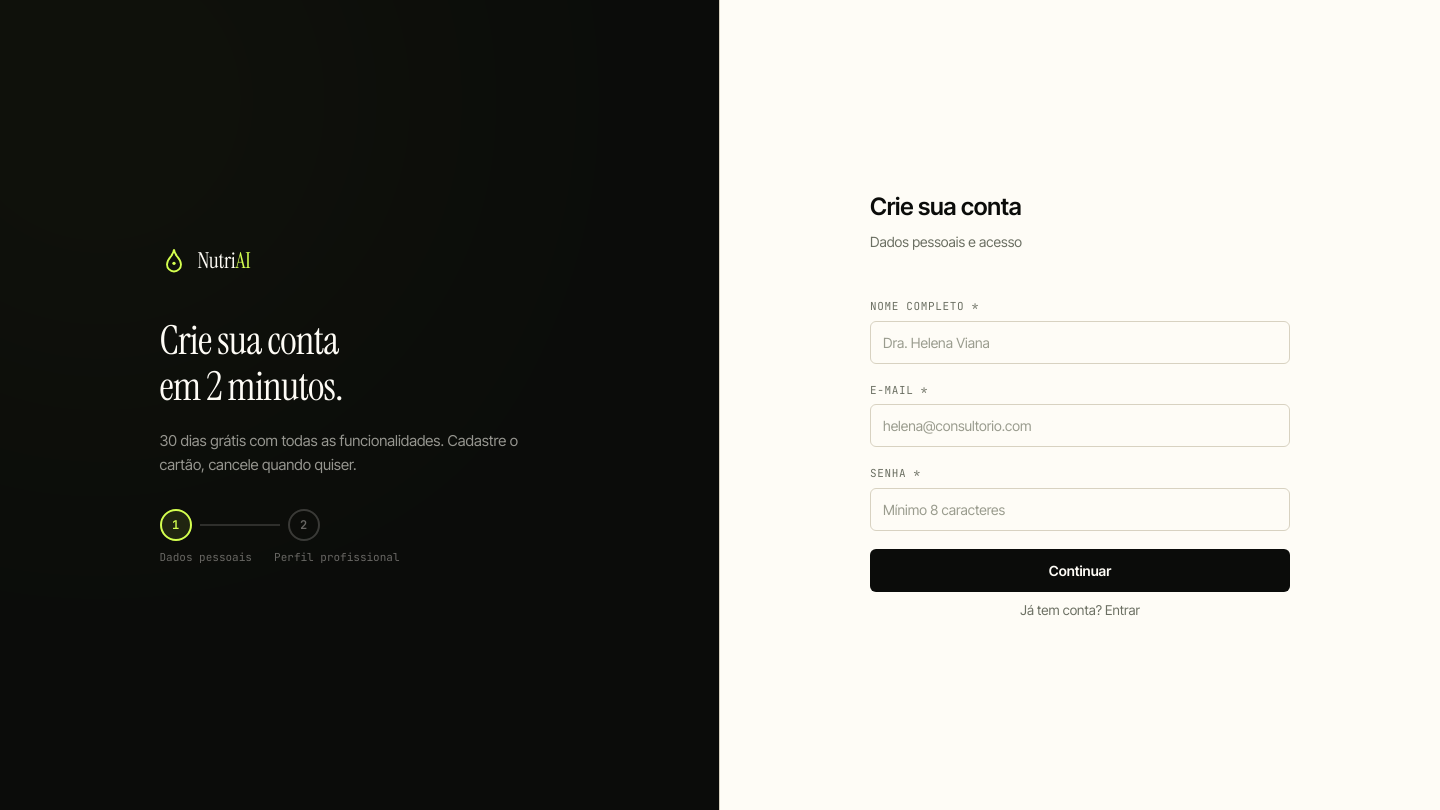
SignupView › Step 2 validation › shows error when step 2 submitted without CRN and terms
Type "Dra. Helena" into the field with test id "signup-name" at (1080, 342), box [870,321,1290,364]
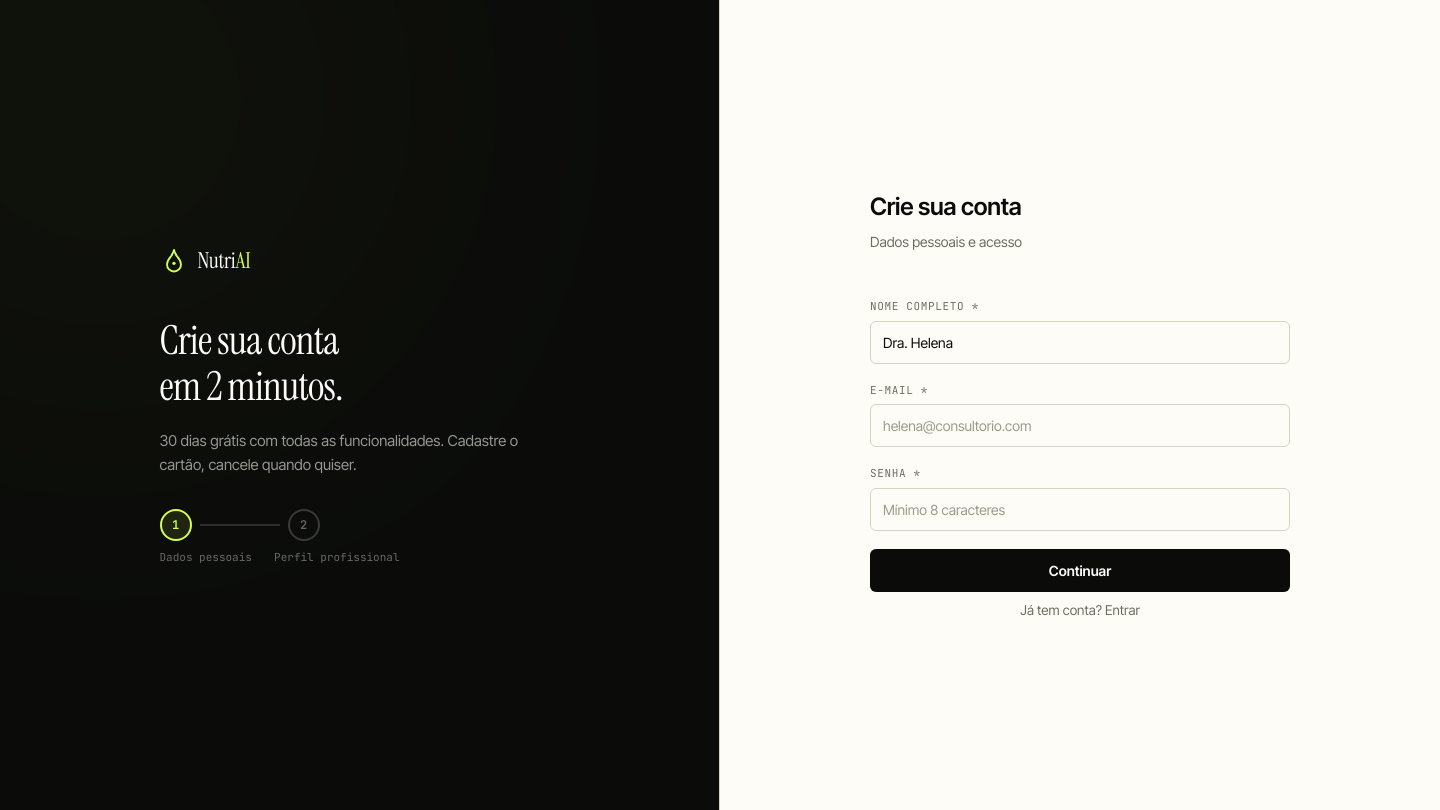
Type "helena@test.com" into the field with test id "signup-email" at (1080, 426), box [870,404,1290,447]
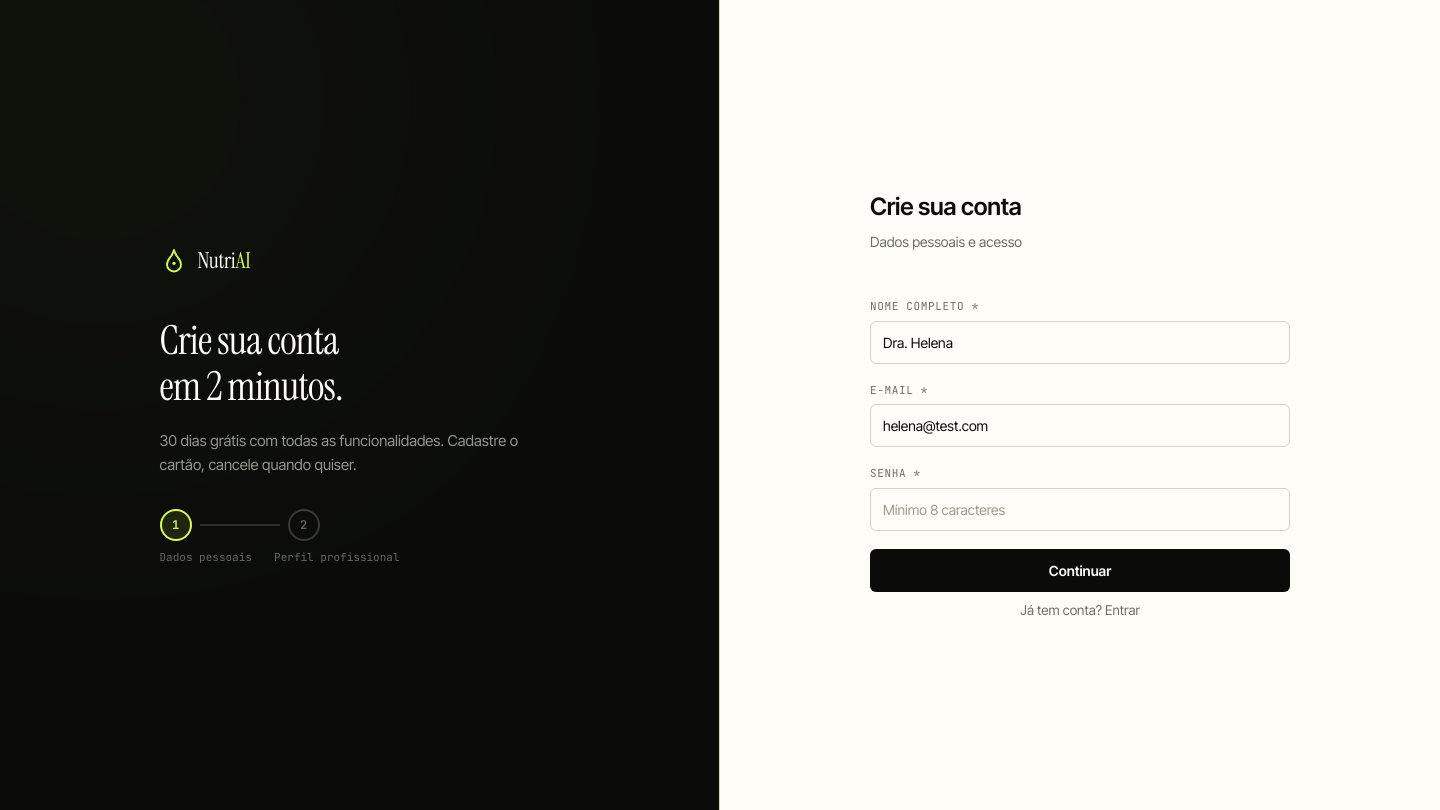
Type "Senha123!" into the password field with test id "signup-password" at (1080, 509), box [870,488,1290,531]
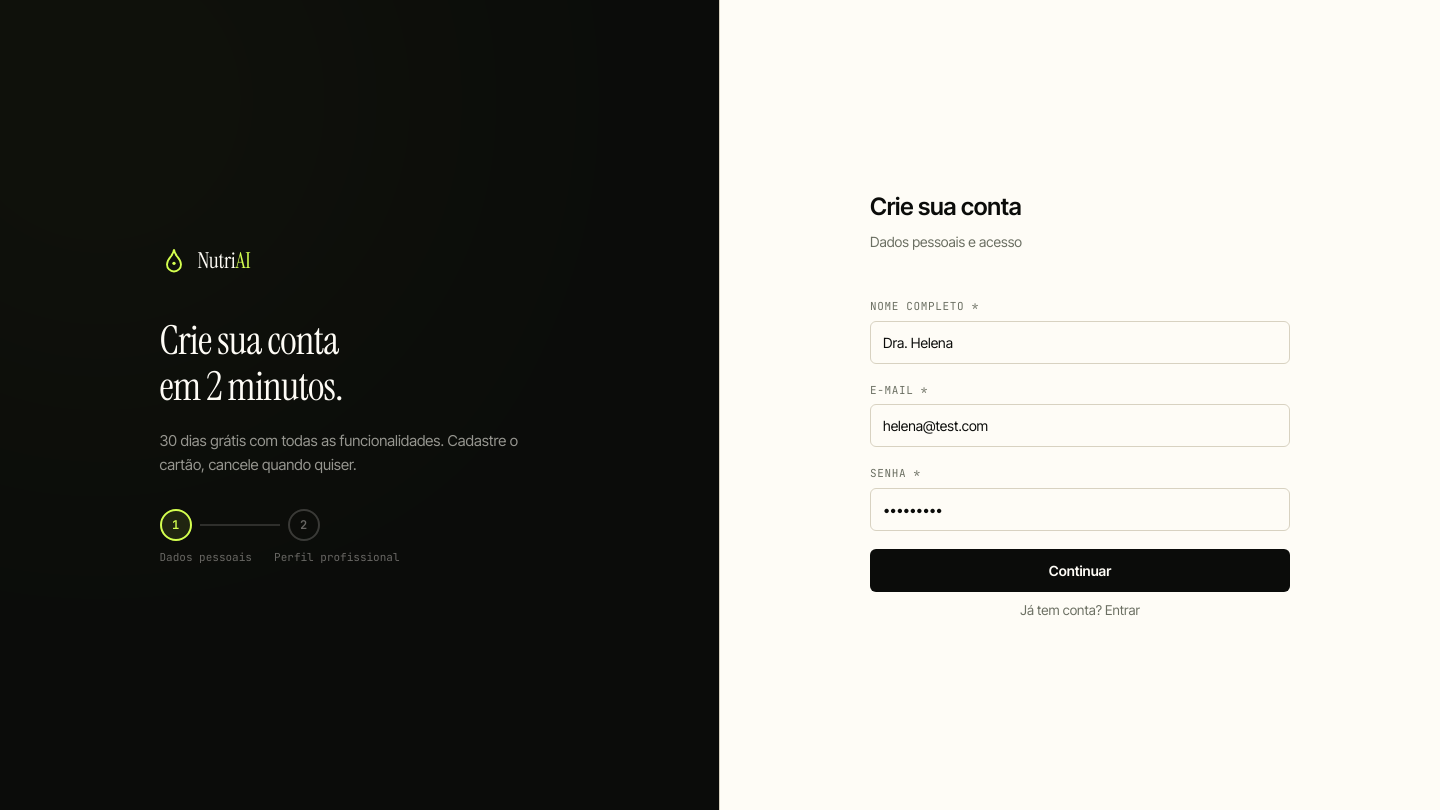
Submit the form named "continuar", box [870,189,1290,592]
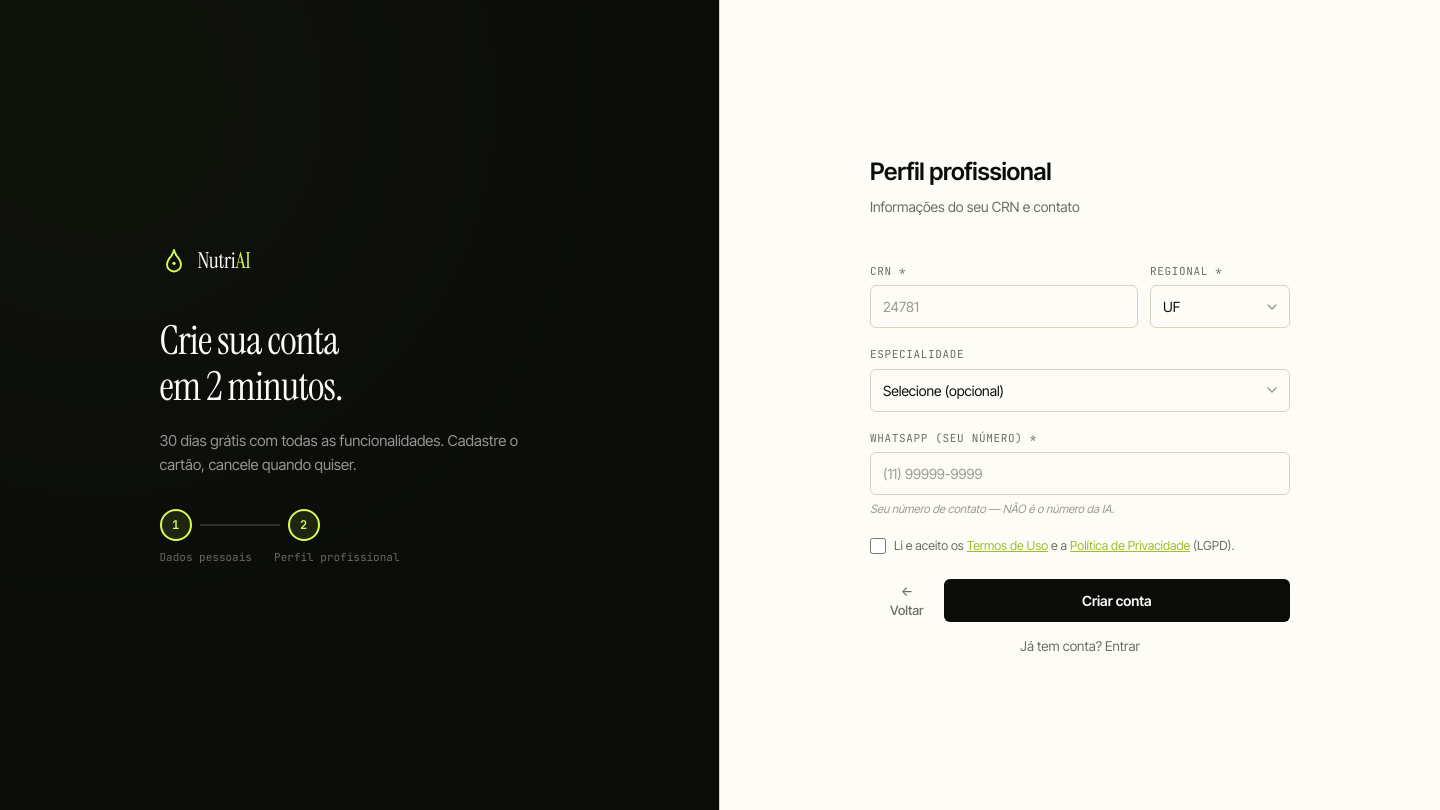
Click the button "Criar conta" at (1117, 601), box [944,579,1290,622]
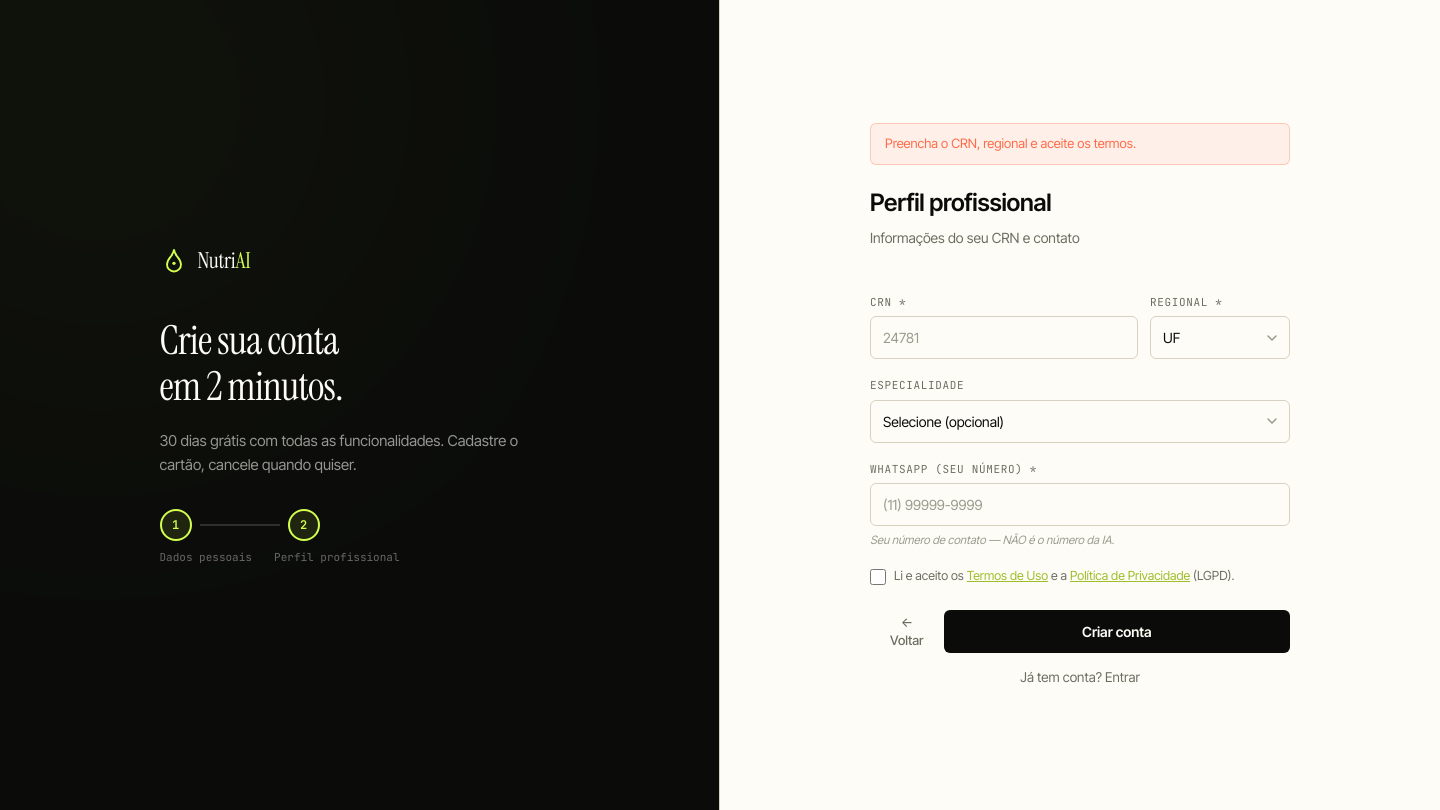
Result: the text "Preencha o CRN, regional e aceite os termos." is shown at [870,123,1290,165]
